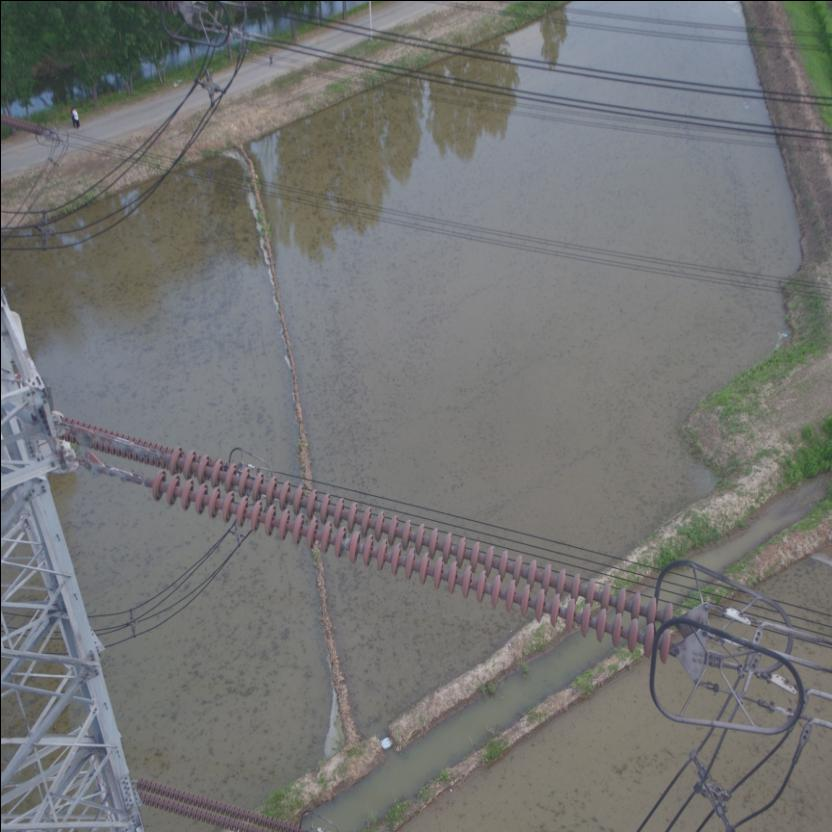insulator: (117, 442, 692, 668)
